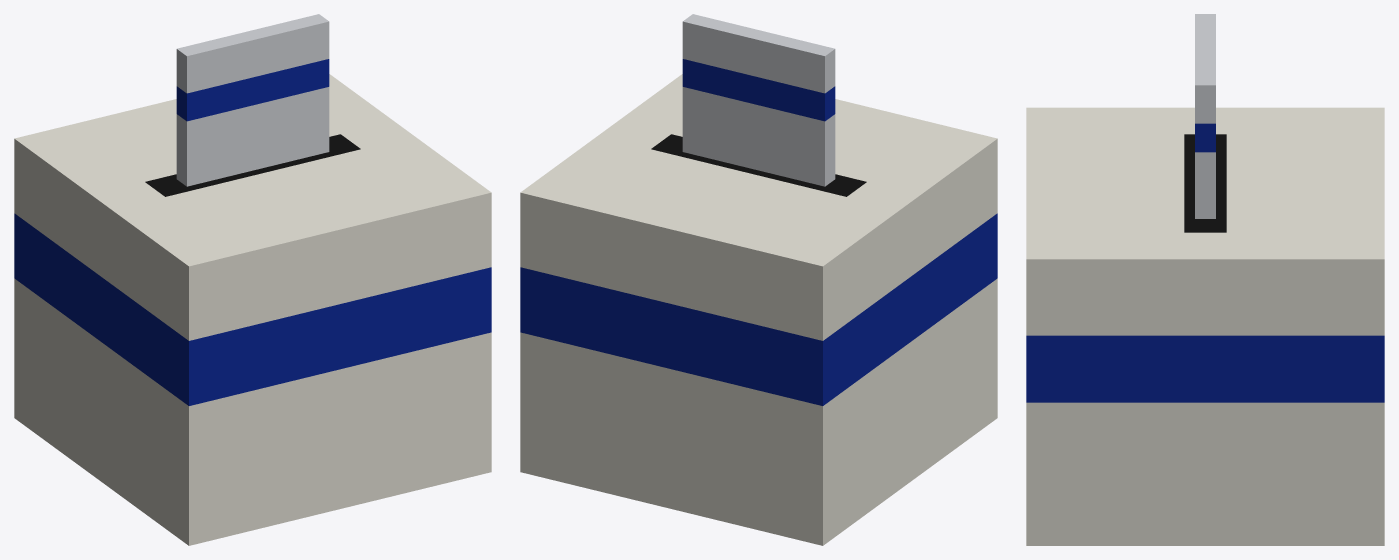
The model's file is alcohol_wipes.glb.
3 renders of one model, left to right at view 1: azimuth 30°, elevation 25°; view 2: azimuth 150°, elevation 25°; view 3: azimuth 270°, elevation 25°, orthographic. The views are drawn at different scales.
Visible parts, largest first — view 1: alcohol_wipes:compound; view 2: alcohol_wipes:compound; view 3: alcohol_wipes:compound.
Part boxes in pixels (x1,y1,x2,y2): alcohol_wipes:compound: (14,14,491,545); alcohol_wipes:compound: (520,14,997,545); alcohol_wipes:compound: (1026,14,1384,545).
Bounding box in the file's own units: 0.068 × 0.088 × 0.068.
